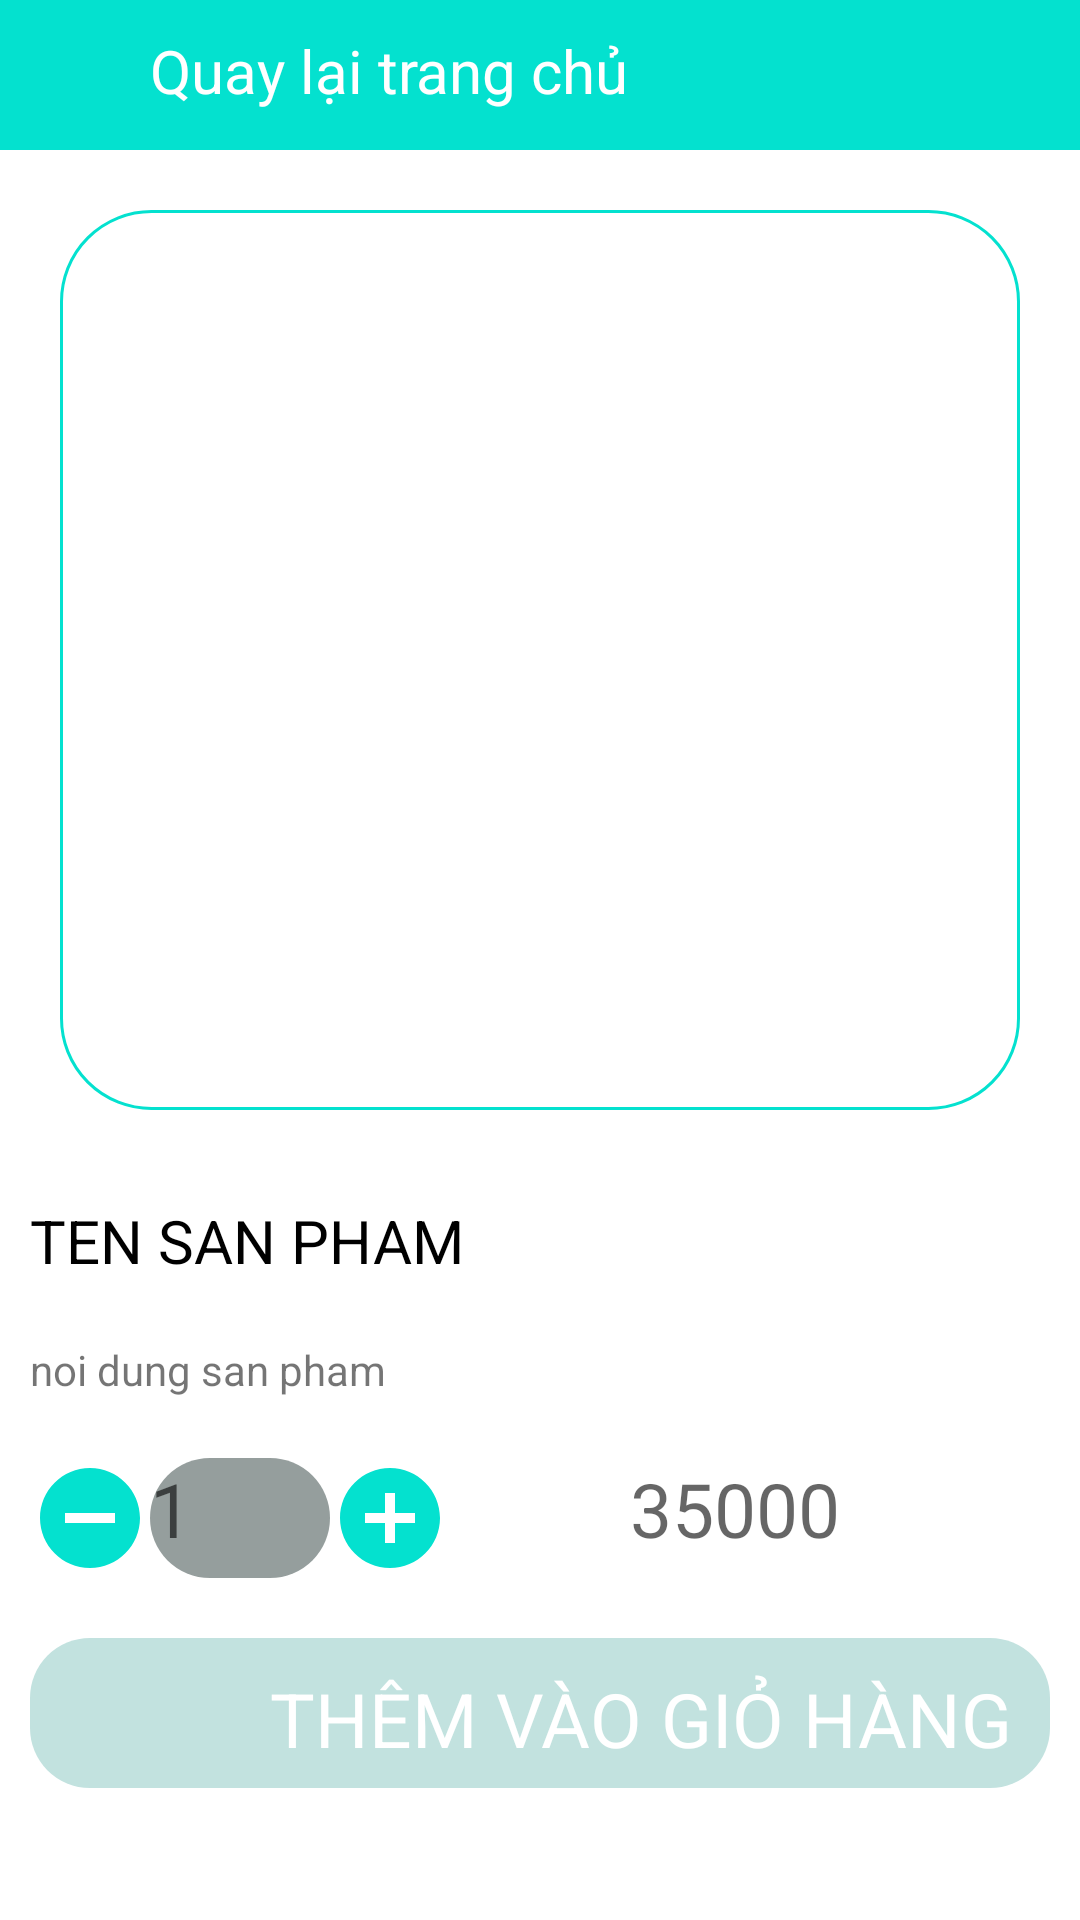

Icon bounding boxes for this 1080×1920 phone screenshot, format rect(x1, y1, x2, y2):
add circle: rect(340, 1468, 440, 1568)
remove circle: rect(40, 1468, 140, 1568)
